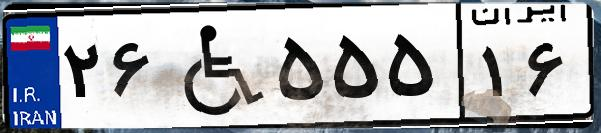1: (475, 38, 525, 113)
2: (57, 26, 110, 100)
5: (270, 28, 330, 110), (385, 28, 445, 110), (330, 28, 385, 110)
6: (525, 38, 570, 115), (110, 28, 158, 98)
ژ (معلولین و جانبازان): (158, 12, 270, 120)
